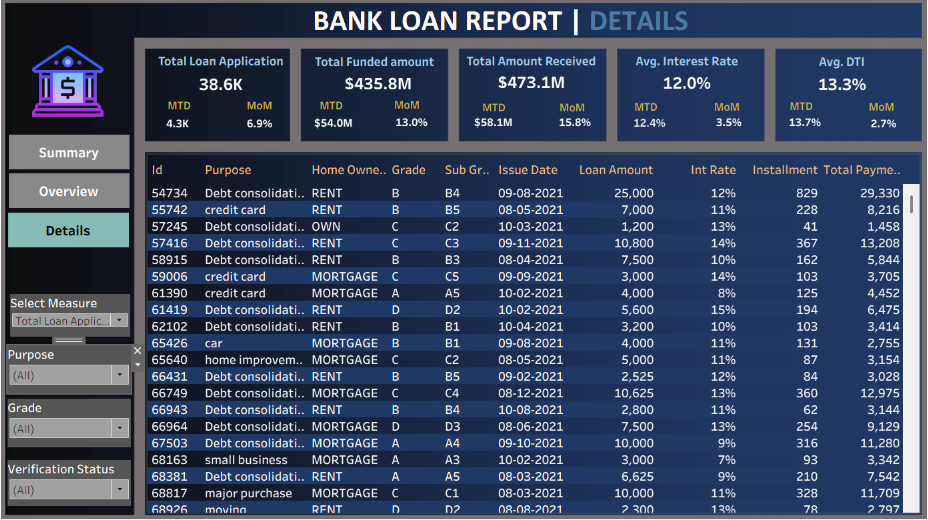

The page's visual inventory and layout, read from the dashboard file:
{"tool":"tableau","page":{"name":"DETAILS","canvas":[1000,1000],"units":"permille","ordinal":0},"visuals":[{"type":"image","param":"Image/Tableau Background 3.jpg","box":[5.7,9.9,988.6,980.1]},{"type":"text","box":[337.1,18.6,449.4,65.8]},{"type":"image","param":"Image/download (1).png","box":[20.6,86.9,118.5,162.5]},{"type":"worksheet","title":"Total Loan Application","mark":"Automatic","box":[167.5,109.2,148.6,79.4]},{"type":"worksheet","title":"Total Amount Received","mark":"Automatic","box":[495.5,109.2,152.1,72]},{"type":"worksheet","title":"Avg. Interest Rate","mark":"Automatic","box":[660.1,109.2,152.8,74.4]},{"type":"worksheet","title":"Total Funded amount","mark":"Automatic","box":[330.8,110.4,149.3,73.2]},{"type":"worksheet","title":"Avg. DTI","mark":"Automatic","box":[826.9,110.4,149.3,76.9]},{"type":"text","box":[411.7,193.6,55.1,37.2]},{"type":"text","box":[172.4,194.8,50.2,37.2]},{"type":"text","box":[255.4,194.8,55.1,37.2]},{"type":"text","box":[334.3,194.8,50.2,37.2]},{"type":"text","box":[751.6,197.3,55.1,37.2]},{"type":"text","box":[506.6,198.5,50.2,37.2]},{"type":"text","box":[587.6,198.5,55.1,37.2]},{"type":"text","box":[674.1,199.8,37.7,31]},{"type":"text","box":[833.2,199.8,50.2,28.5]},{"type":"text","box":[915.6,199.8,55.1,32.3]},{"type":"worksheet","title":"MoM Total Funded Amount","mark":"Automatic","box":[420.1,225.8,48.1,36]},{"type":"worksheet","title":"MTD Total Funded Amount","mark":"Automatic","box":[338.4,227.1,46.8,37.2]},{"type":"worksheet","title":"MTD Total Amount Received","mark":"Automatic","box":[506.7,227.1,48.7,33.5]},{"type":"worksheet","title":"MoM Avg. Interest Rate","mark":"Automatic","box":[761.3,227.1,39.1,33.5]},{"type":"worksheet","title":"MTD Avg. Interest Rate","mark":"Automatic","box":[672.7,228.3,48.1,34.7]},{"type":"worksheet","title":"MoM Avg.DTI","mark":"Automatic","box":[917.7,228.3,54.4,36]},{"type":"worksheet","title":"MTD Loan Application","mark":"Automatic","box":[175.2,229.5,41.2,34.7]},{"type":"worksheet","title":"MoM Loan Application","mark":"Automatic","box":[265.2,229.5,34.9,33.5]},{"type":"worksheet","title":"MoM Total Amount Received","mark":"Automatic","box":[591.1,229.5,53,29.8]},{"type":"worksheet","title":"MTD Avg. DTI","mark":"Automatic","box":[838.8,229.5,46.8,29.8]},{"type":"dashboard-object","box":[17,268,127.8,64.5]},{"type":"worksheet","title":"Details Tab","mark":"Automatic","rows":["id","purpose","home_ownership","grade","sub_grade","issue_date"],"box":[164.3,305.2,819.4,666.2]},{"type":"dashboard-object","box":[17,339.9,127.8,64.5]},{"type":"dashboard-object","box":[16.3,413.2,127.8,64.5]},{"type":"parameter","param":"[Parameters].[Parameter 1]","box":[18.4,564.5,127.5,79.4]},{"type":"filter","title":"Avg. DTI","param":"[federated.1d4ytph0btjmoy1crx2t60rukmry].[none:purpose:nk]","box":[15.6,660.1,131,89.3]},{"type":"filter","title":"Avg. DTI","param":"[federated.1d4ytph0btjmoy1crx2t60rukmry].[none:grade:nk]","box":[15.6,759.3,131,90.6]},{"type":"filter","title":"Avg. DTI","param":"[federated.1d4ytph0btjmoy1crx2t60rukmry].[none:verification_status:nk]","box":[15.6,873.5,131,85.6]}]}

Visuals, with their boxes on the dashboard's canvas, which has no fixed pixel size, in thousandths of its width and height (x1, y1, x2, y2). These are canvas units, not pixel positions in the 928x520 screenshot, which may show the page scaled, cropped or inside an application window:
image: l=6, t=10, r=994, b=990
text: l=337, t=19, r=786, b=84
image: l=21, t=87, r=139, b=249
"Total Loan Application" worksheet: l=168, t=109, r=316, b=189
"Total Amount Received" worksheet: l=496, t=109, r=648, b=181
"Avg. Interest Rate" worksheet: l=660, t=109, r=813, b=184
"Total Funded amount" worksheet: l=331, t=110, r=480, b=184
"Avg. DTI" worksheet: l=827, t=110, r=976, b=187
text: l=412, t=194, r=467, b=231
text: l=172, t=195, r=223, b=232
text: l=255, t=195, r=310, b=232
text: l=334, t=195, r=384, b=232
text: l=752, t=197, r=807, b=234
text: l=507, t=198, r=557, b=236
text: l=588, t=198, r=643, b=236
text: l=674, t=200, r=712, b=231
text: l=833, t=200, r=883, b=228
text: l=916, t=200, r=971, b=232
"MoM Total Funded Amount" worksheet: l=420, t=226, r=468, b=262
"MTD Total Funded Amount" worksheet: l=338, t=227, r=385, b=264
"MTD Total Amount Received" worksheet: l=507, t=227, r=555, b=261
"MoM Avg. Interest Rate" worksheet: l=761, t=227, r=800, b=261
"MTD Avg. Interest Rate" worksheet: l=673, t=228, r=721, b=263
"MoM Avg.DTI" worksheet: l=918, t=228, r=972, b=264
"MTD Loan Application" worksheet: l=175, t=230, r=216, b=264
"MoM Loan Application" worksheet: l=265, t=230, r=300, b=263
"MoM Total Amount Received" worksheet: l=591, t=230, r=644, b=259
"MTD Avg. DTI" worksheet: l=839, t=230, r=886, b=259
dashboard-object: l=17, t=268, r=145, b=332
"Details Tab" worksheet: l=164, t=305, r=984, b=971
dashboard-object: l=17, t=340, r=145, b=404
dashboard-object: l=16, t=413, r=144, b=478
parameter: l=18, t=564, r=146, b=644
"Avg. DTI" filter: l=16, t=660, r=147, b=749
"Avg. DTI" filter: l=16, t=759, r=147, b=850
"Avg. DTI" filter: l=16, t=874, r=147, b=959
